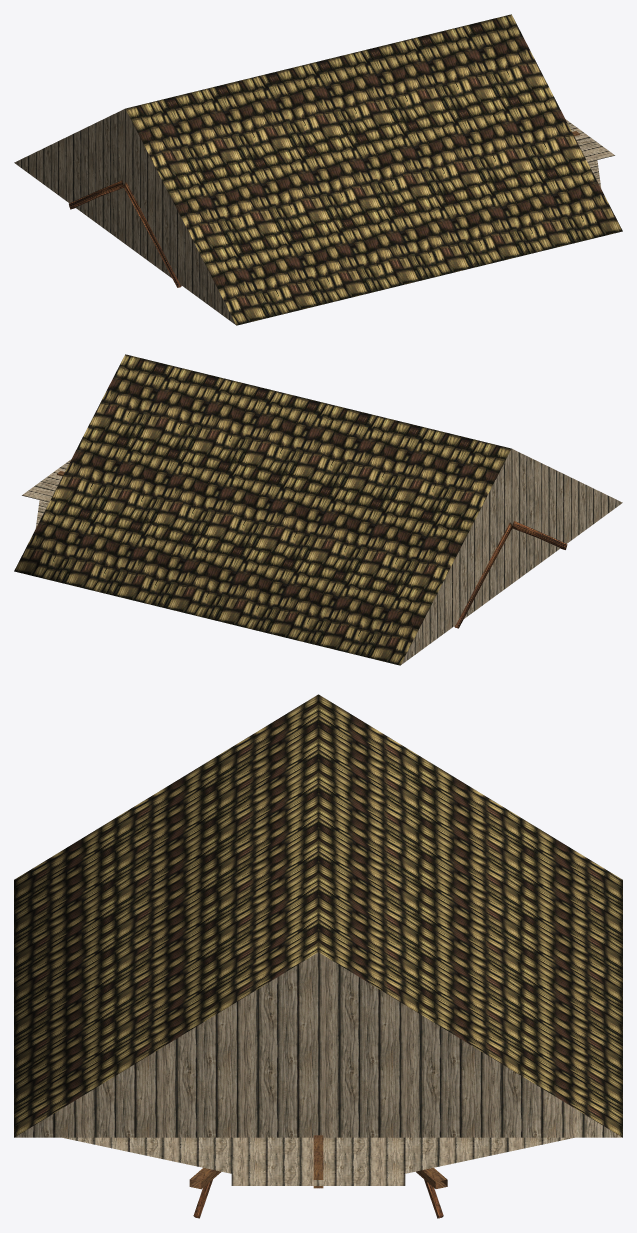
The model's file is LAKETOWN_WAREHOUSE2_PS_WH2_ROOF_PARTS746__GX.fbx.
3 views of the same model, one above another, from view 1: azimuth 30°, elevation 25°; view 2: azimuth 150°, elevation 25°; view 3: azimuth 270°, elevation 25° (orthographic). The views are drawn at different scales.
Parts seen in each view (by area): view 1: LAKETOWN_WAREHOUSE2_PS_WH2_ROOF_PARTS746__GX; view 2: LAKETOWN_WAREHOUSE2_PS_WH2_ROOF_PARTS746__GX; view 3: LAKETOWN_WAREHOUSE2_PS_WH2_ROOF_PARTS746__GX.
Part boxes in pixels (x1,y1,x2,y2): LAKETOWN_WAREHOUSE2_PS_WH2_ROOF_PARTS746__GX: (14, 14, 622, 325); LAKETOWN_WAREHOUSE2_PS_WH2_ROOF_PARTS746__GX: (14, 354, 622, 665); LAKETOWN_WAREHOUSE2_PS_WH2_ROOF_PARTS746__GX: (14, 694, 622, 1218).
Size of the model in its own units: 267737 by 97513 by 224650.
5 materials, 5 textured.
